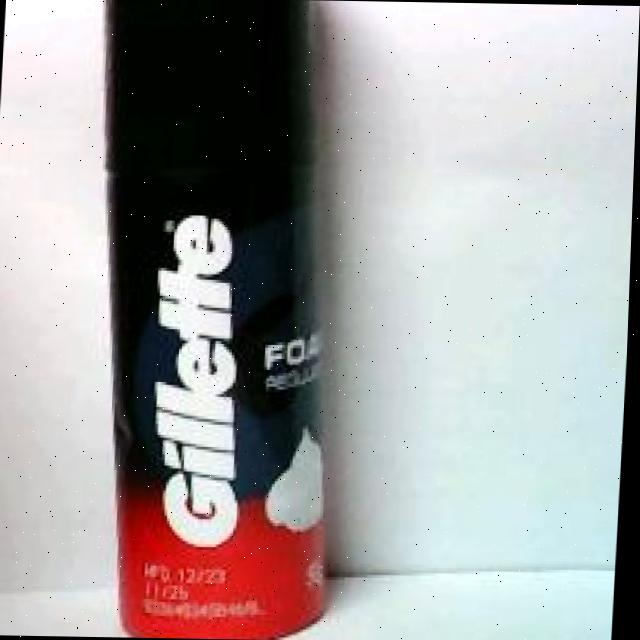gillette-foam: (104, 0, 333, 640)
